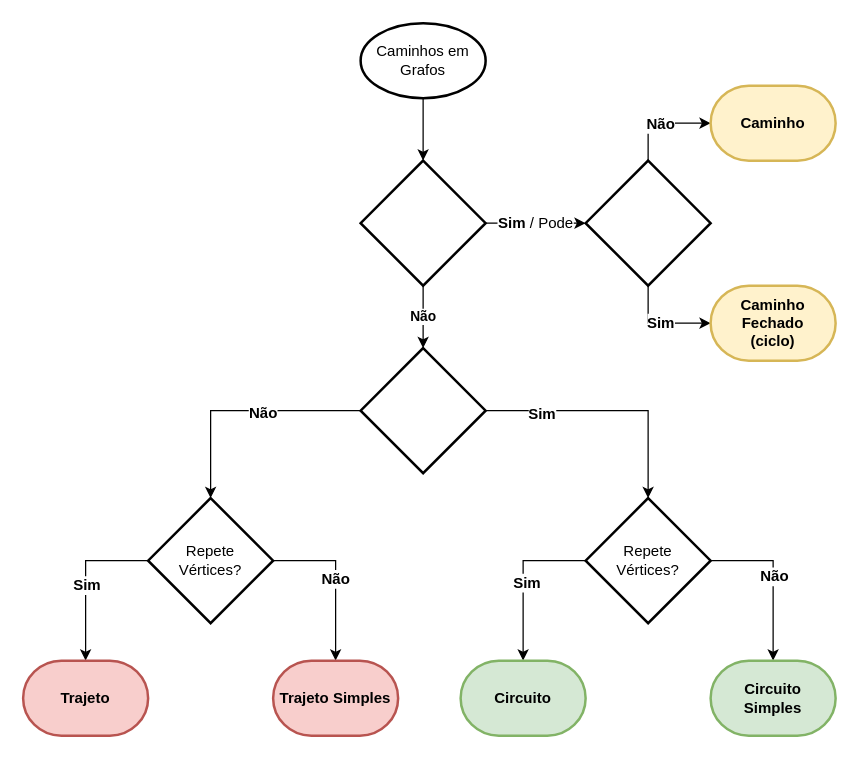
Some shapes in this 858 by 758 pixel diagram are drawn without their labels. Here are the shapes that lost their labels. From the top down, the centre of each, then its label:
At [422,222]: "Repete Arestas?".
At [647,222]: "V o = V n".
At [422,410]: "V 0 = V n".
